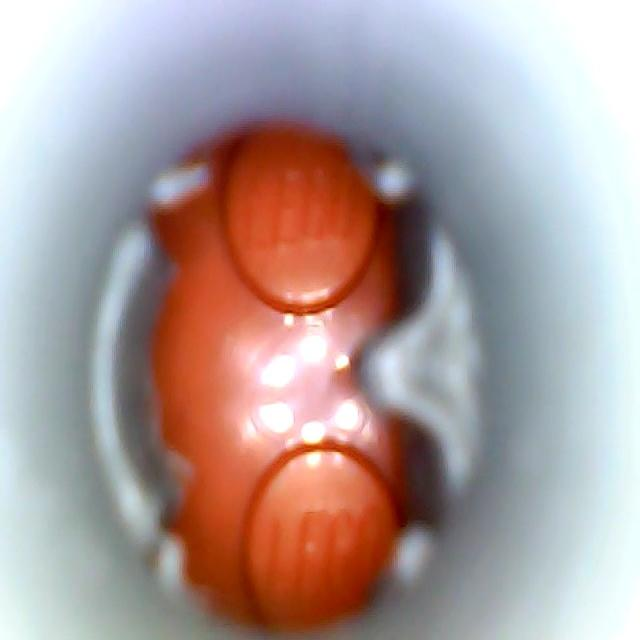studs: (218, 128, 381, 313), (244, 444, 397, 627)
